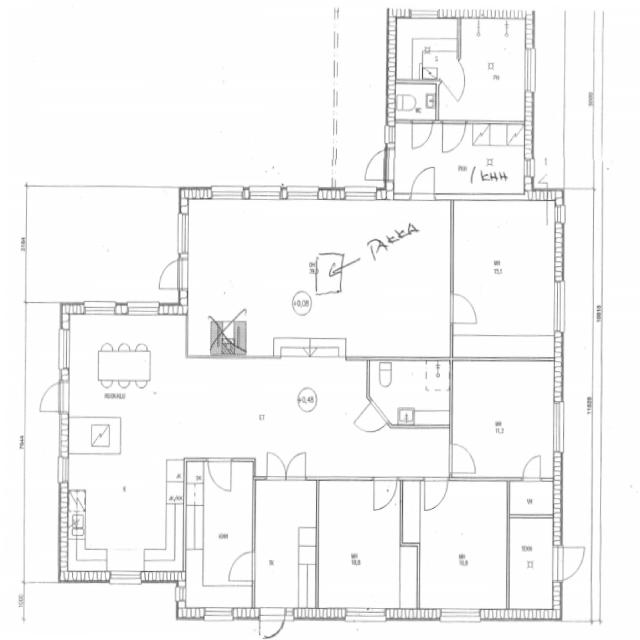door: (262, 448, 309, 482), (448, 286, 482, 329), (552, 542, 588, 582), (436, 56, 466, 102), (36, 376, 68, 415), (154, 254, 186, 293), (408, 163, 438, 204), (360, 145, 390, 186), (448, 438, 479, 477), (420, 473, 450, 513), (226, 546, 257, 584), (370, 474, 400, 512), (257, 605, 288, 640), (206, 456, 234, 494), (440, 118, 468, 154), (357, 401, 385, 435), (409, 119, 435, 152), (519, 451, 544, 483), (531, 156, 549, 183)
window: (550, 274, 568, 340), (549, 396, 568, 458), (522, 42, 538, 98), (55, 323, 72, 375), (174, 208, 191, 260), (283, 181, 322, 203), (343, 605, 389, 623), (341, 184, 381, 204), (437, 606, 483, 623), (208, 182, 247, 202), (314, 473, 374, 486), (123, 299, 163, 318), (246, 183, 284, 202), (108, 568, 145, 587), (200, 604, 237, 622), (81, 299, 119, 316), (56, 452, 70, 487), (552, 199, 568, 229), (409, 7, 441, 20), (523, 154, 536, 183)
zone: (186, 196, 451, 356), (185, 354, 368, 460), (22, 185, 182, 305), (65, 308, 184, 458), (451, 196, 560, 358), (315, 478, 420, 618), (64, 454, 184, 570), (450, 358, 560, 479), (416, 478, 508, 616), (390, 122, 528, 200), (184, 459, 256, 604), (252, 475, 318, 615), (459, 15, 531, 121), (368, 358, 452, 428), (508, 513, 556, 618), (391, 15, 461, 83), (67, 407, 124, 453), (59, 536, 108, 580), (507, 478, 558, 516), (392, 81, 438, 123), (225, 546, 258, 584), (317, 250, 343, 293), (440, 118, 468, 155)
